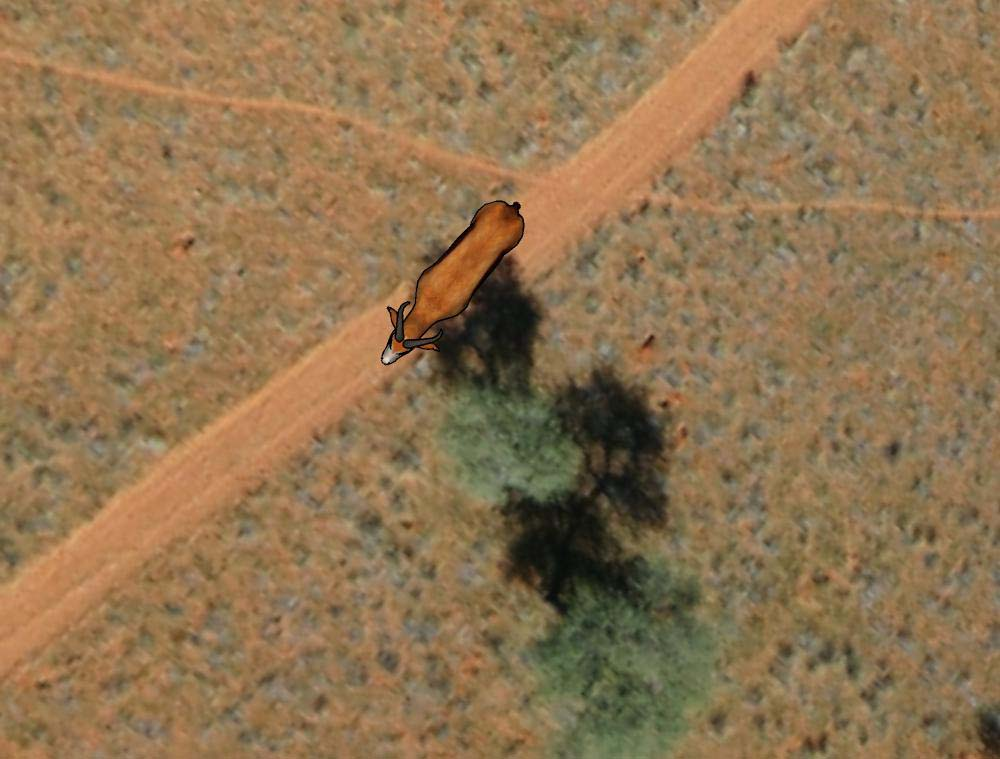springbok: (381, 194, 527, 369)
